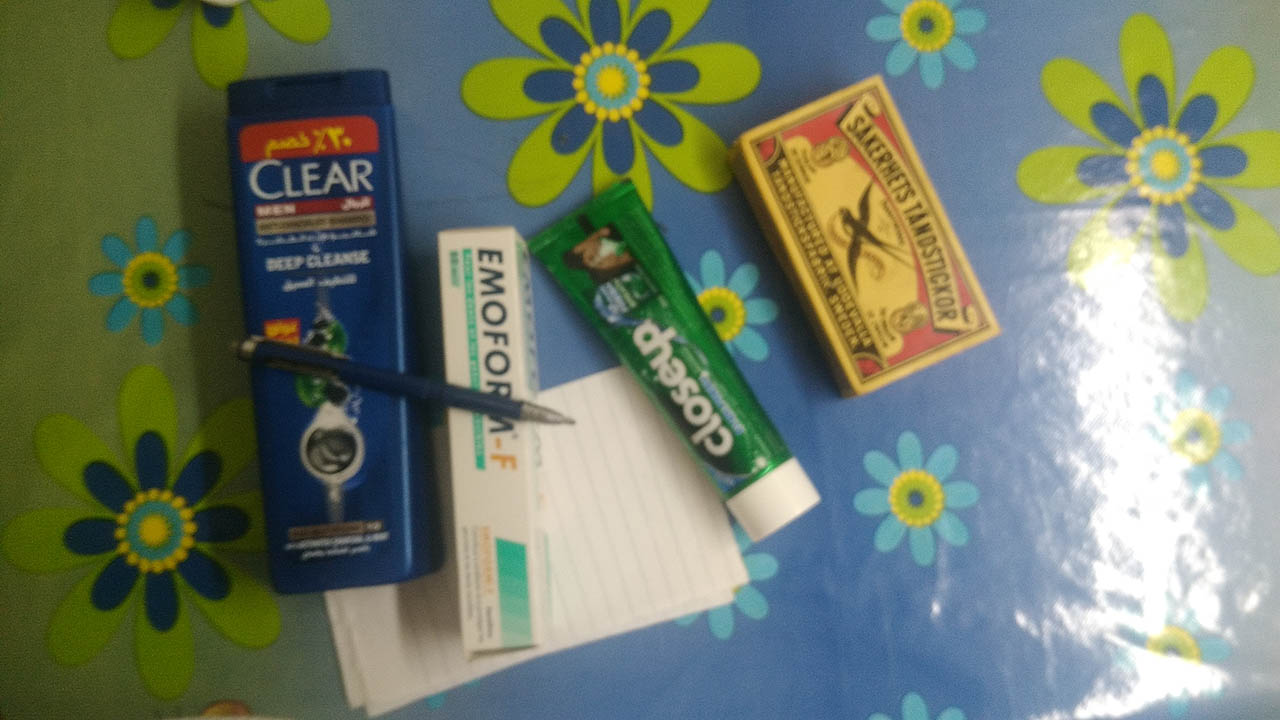Shampoo-Clear 4.7$: (212, 63, 429, 602)
Toothpaste-Closeup 3.04$: (525, 181, 811, 558)
Toothpaste-F 1.5$: (428, 219, 551, 666)
match-sticks .90$: (731, 93, 1013, 383)
